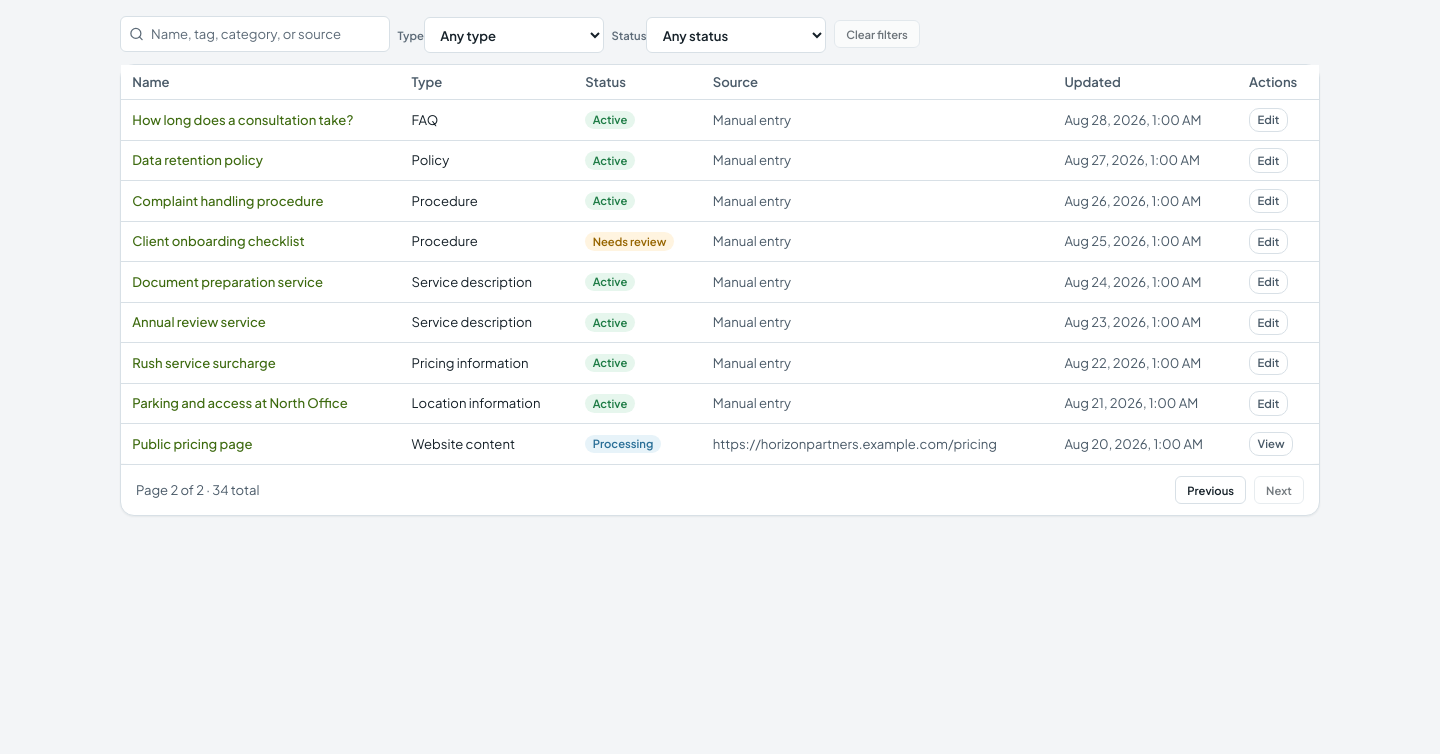
Test: KnowledgePage › returns to the first page when a filter changes
The width and height of the screenshot is (1440, 754).
Expected: the text "Page 2 of 2 · 34 total" is shown, [136,481,260,499]
Select "Active" in the dropdown labelled "Status" at (736, 35), box [646,17,826,53]
(page scrolled)
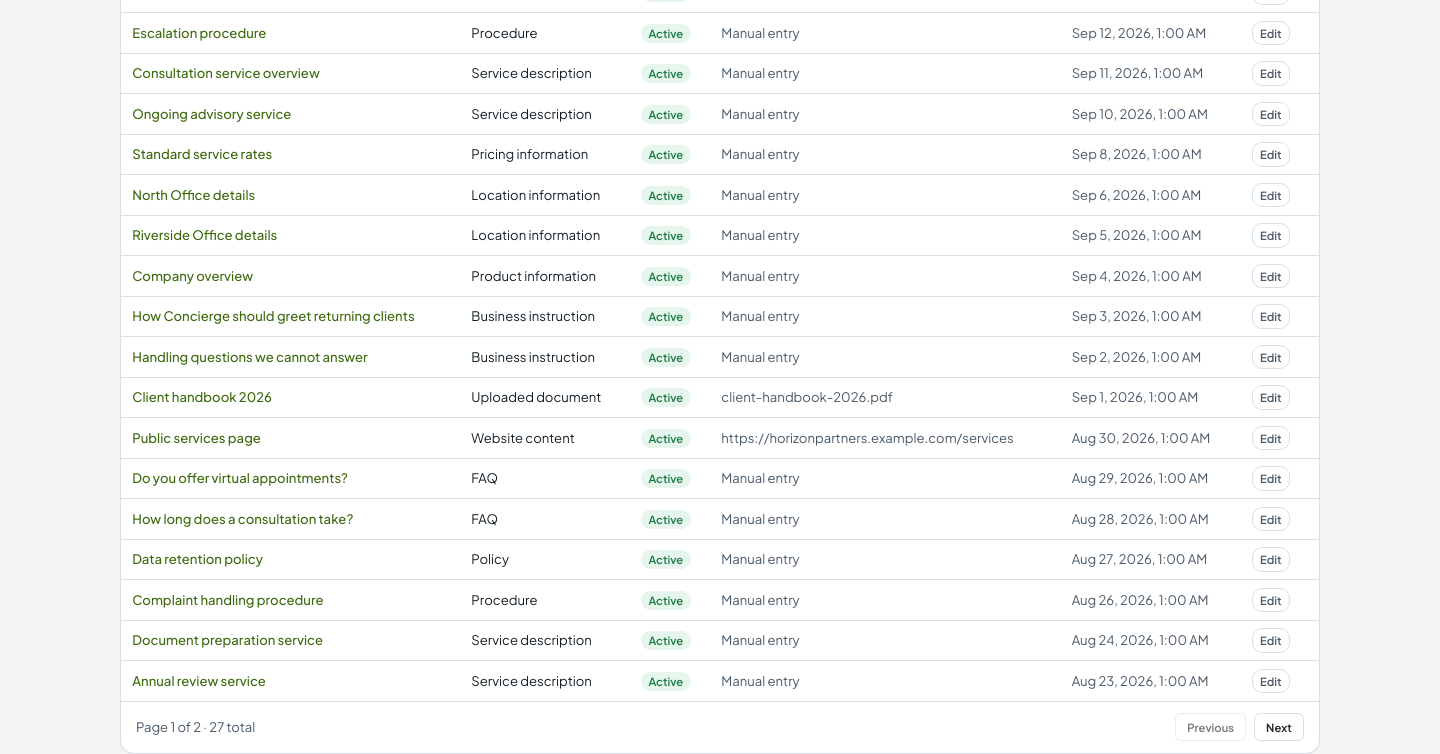
Result: the text "Page 1 of 2 · 27 total" is shown at [136,718,255,737]
